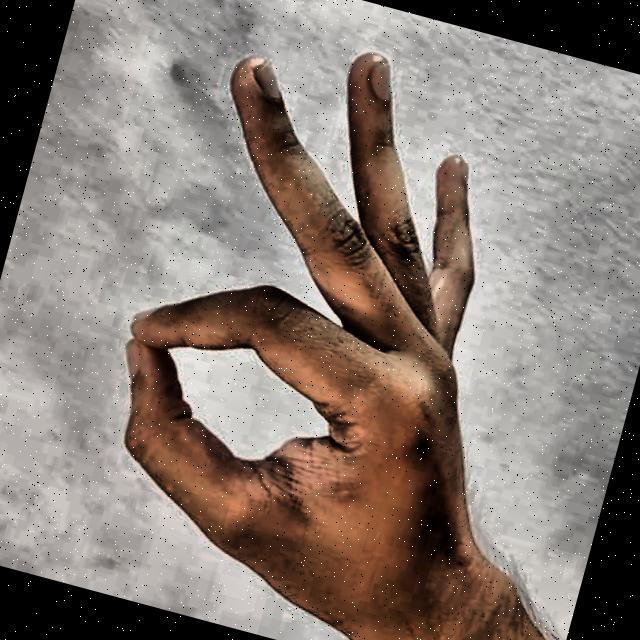Ca: (43, 0, 625, 640)
